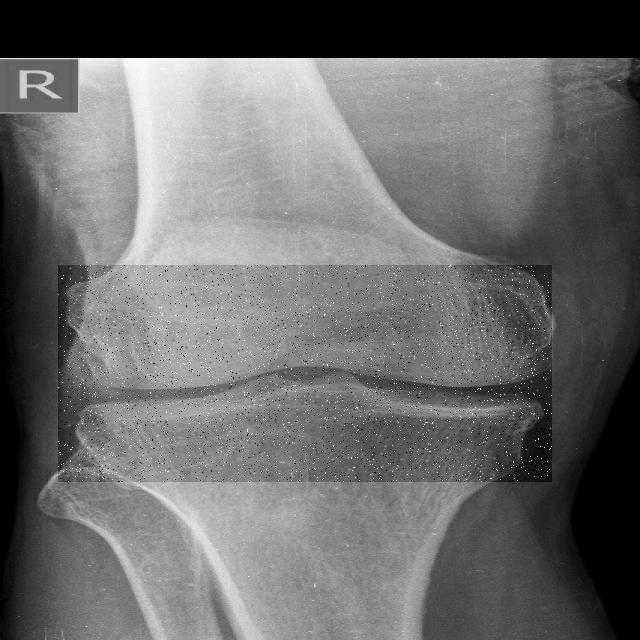osteo: (58, 265, 552, 482)
